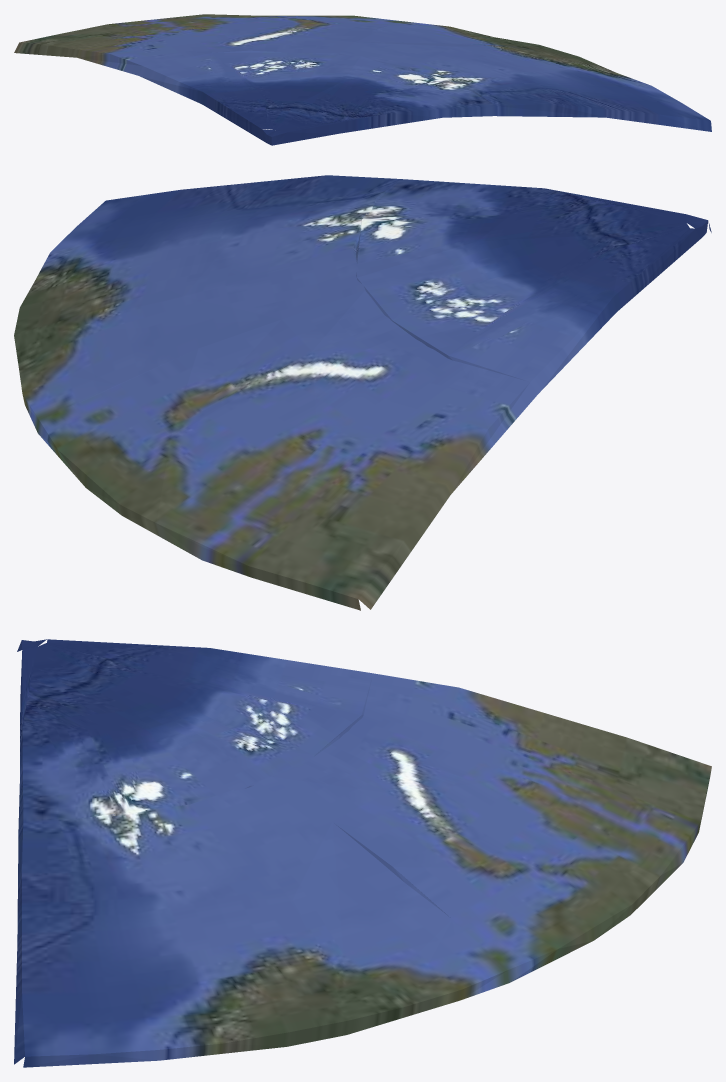
3 renders of one model, top to bottom at view 1: azimuth 30°, elevation 25°; view 2: azimuth 150°, elevation 25°; view 3: azimuth 270°, elevation 25°, orthographic. The views are drawn at different scales.
Bounding box in the file's own units: 2492278 × 550807 × 2492252.
Materials: 1 (1 with a texture image).
